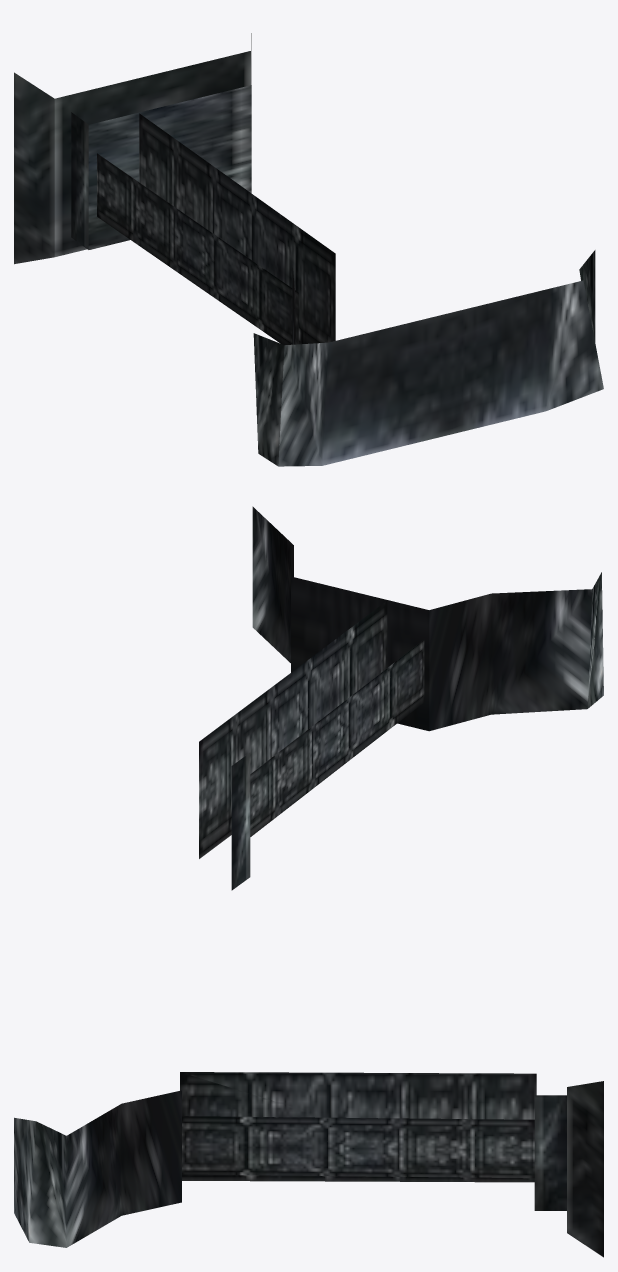
The picture shows the model from 3 angles, top to bottom: view 1: azimuth 30°, elevation 25°; view 2: azimuth 150°, elevation 25°; view 3: azimuth 270°, elevation 25°; orthographic projection. The views are drawn at different scales.
Parts seen in each view (by area): view 1: model_Object19; view 2: model_Object19; view 3: model_Object19.
Part boxes in pixels (x1,y1,x2,y2): model_Object19: (14, 33, 603, 466); model_Object19: (199, 506, 603, 890); model_Object19: (14, 1072, 603, 1257).
Bounding box in the file's own units: 2.08 × 1.12 × 3.38.
1 material, 1 textured.
